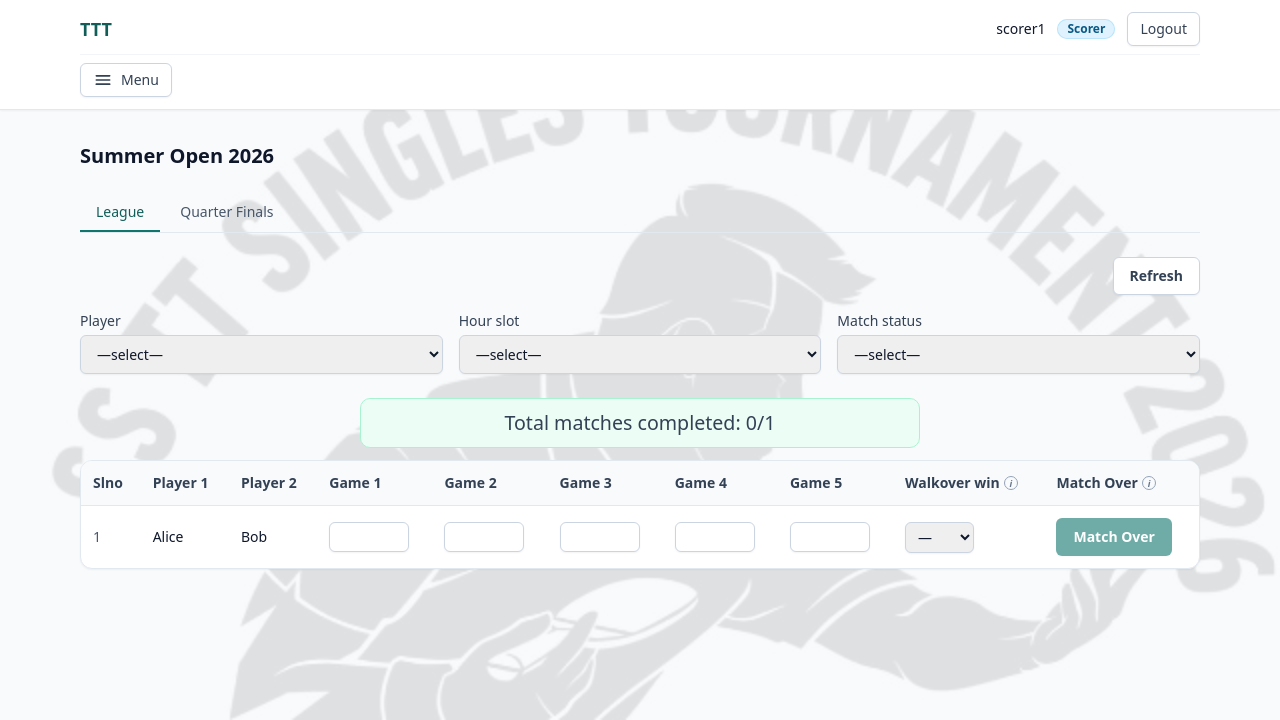
Scenario: Scores validation › shows an alert for invalid scores and refocuses the field
The image size is (1280, 720).
Step 1. Type "5-5" into the field named "game1 for match 1" → (369, 538), box [329,522,409,552]
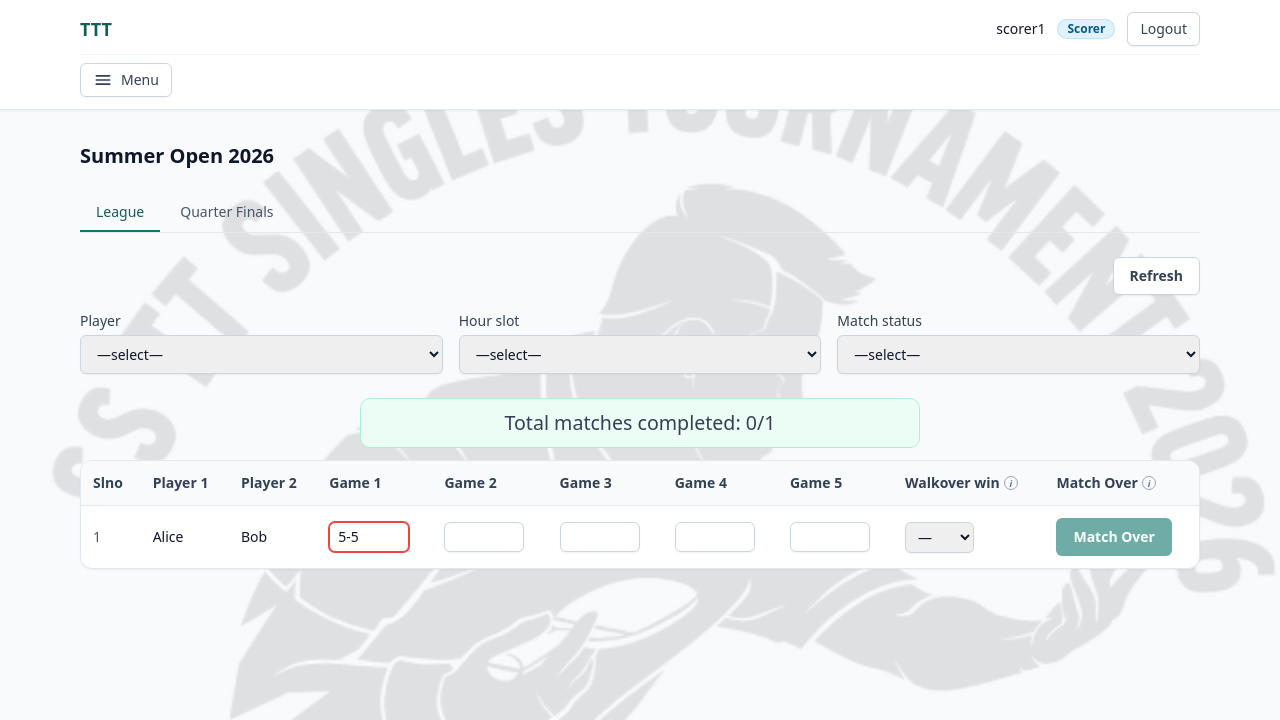
Step 2. Press Tab
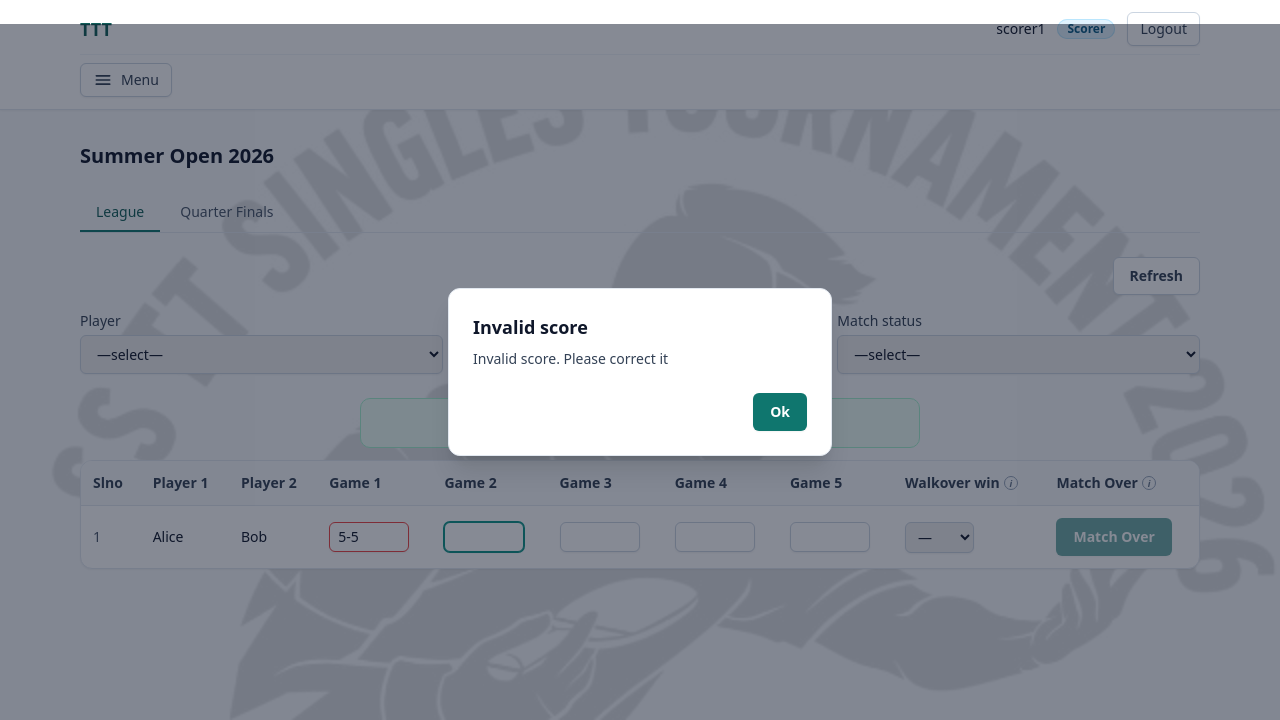
Expected: the dialog "Invalid score" is shown, [448,288,832,456]
Expected: the text "Invalid score. Please correct it" is shown, [473,349,668,368]
Step 3. Click the button "Ok" → (780, 412), box [753,393,807,431]
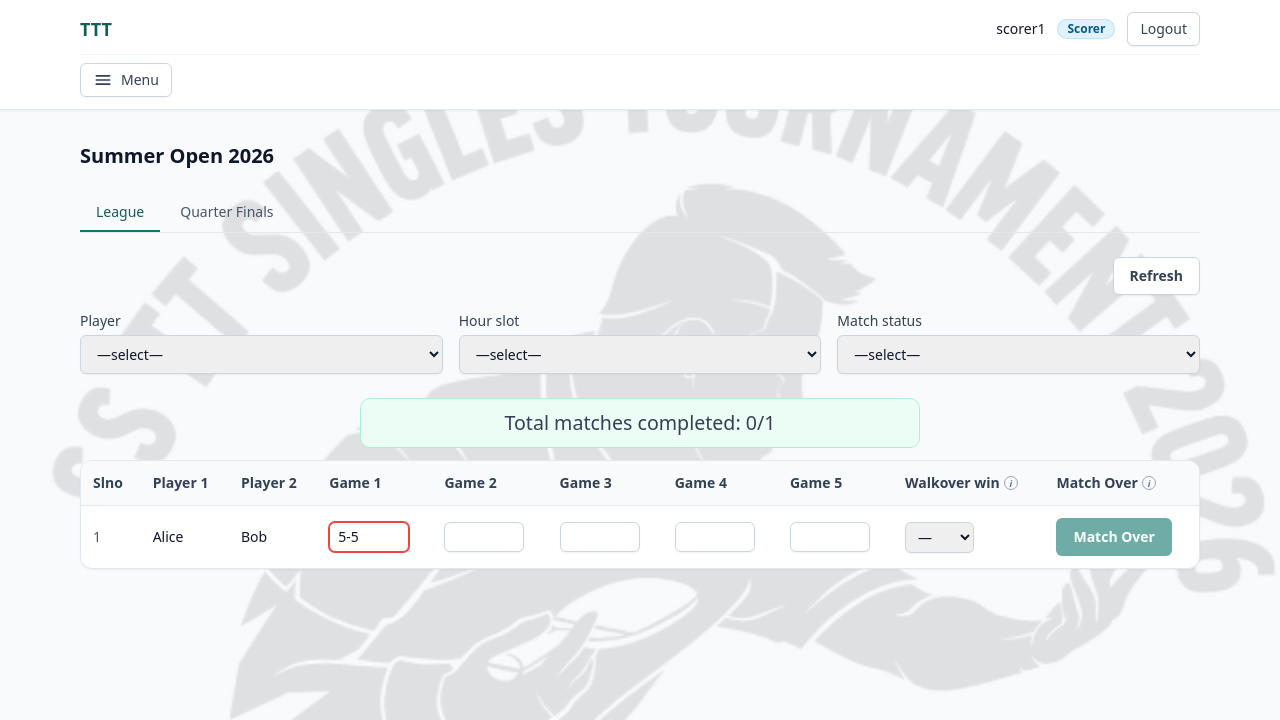
Expected: the text "Saved" is not shown
Expected: the field named "game1 for match 1" is marked as invalid
Step 4. Replace the text in the field named "game1 for match 1" with "11-7" → (369, 538), box [329,522,409,552]
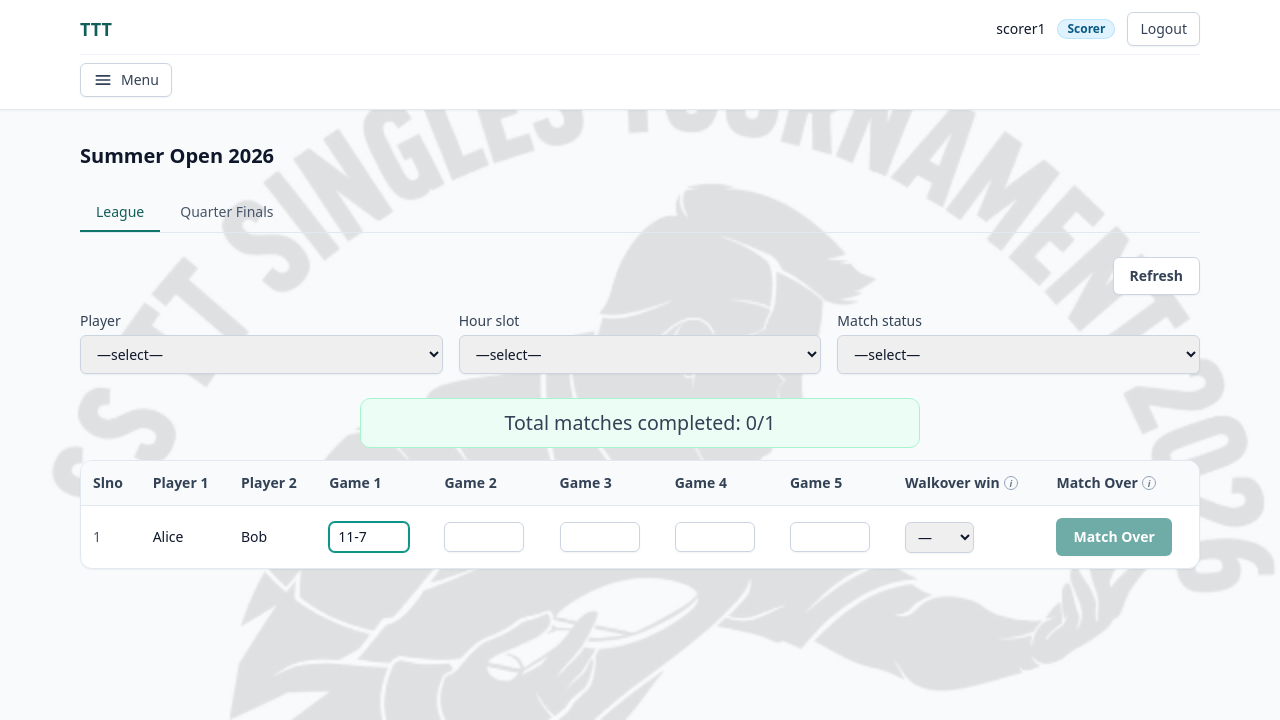
Step 5. Press Tab
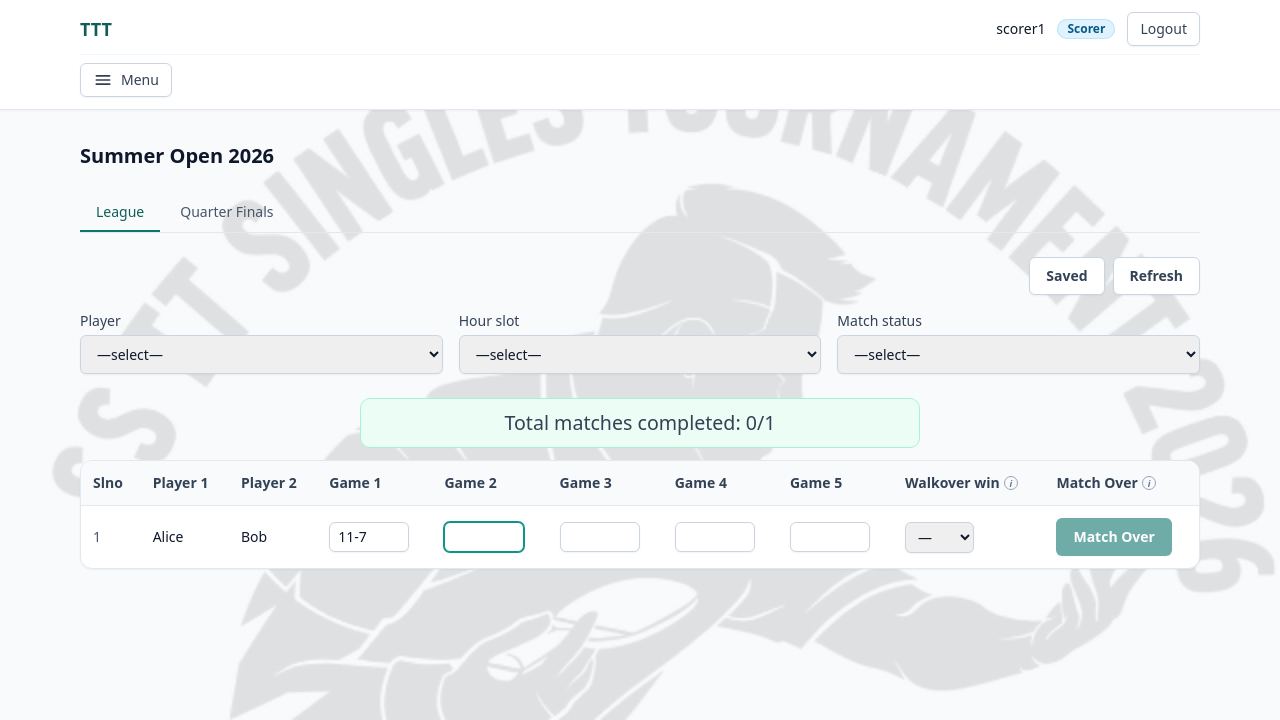
Expected: the text "Saved" is shown, [1029,257,1105,295]
